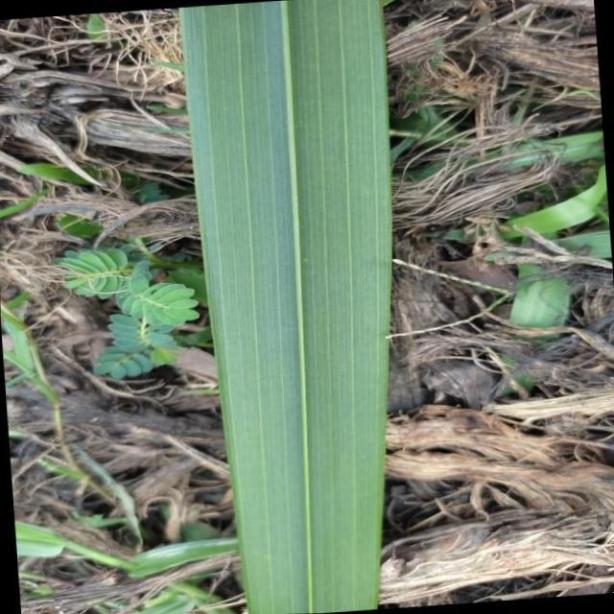Healthy: (180, 9, 396, 614)
